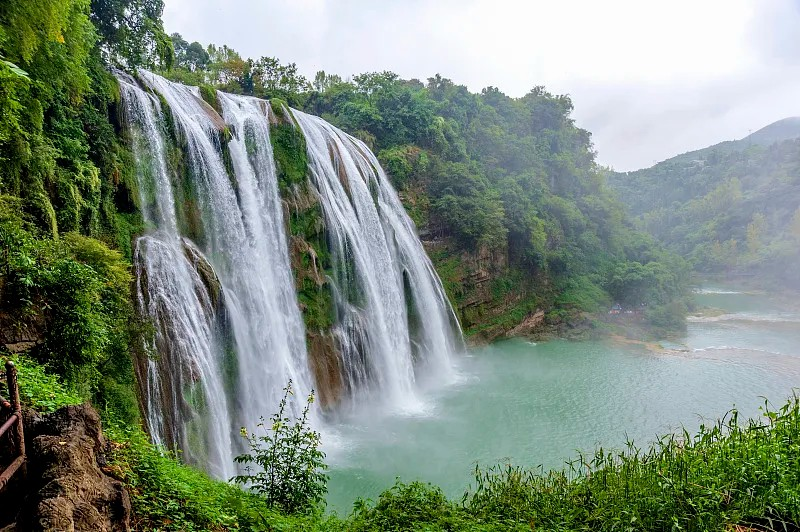Huangguoshu: (111, 65, 467, 481)
